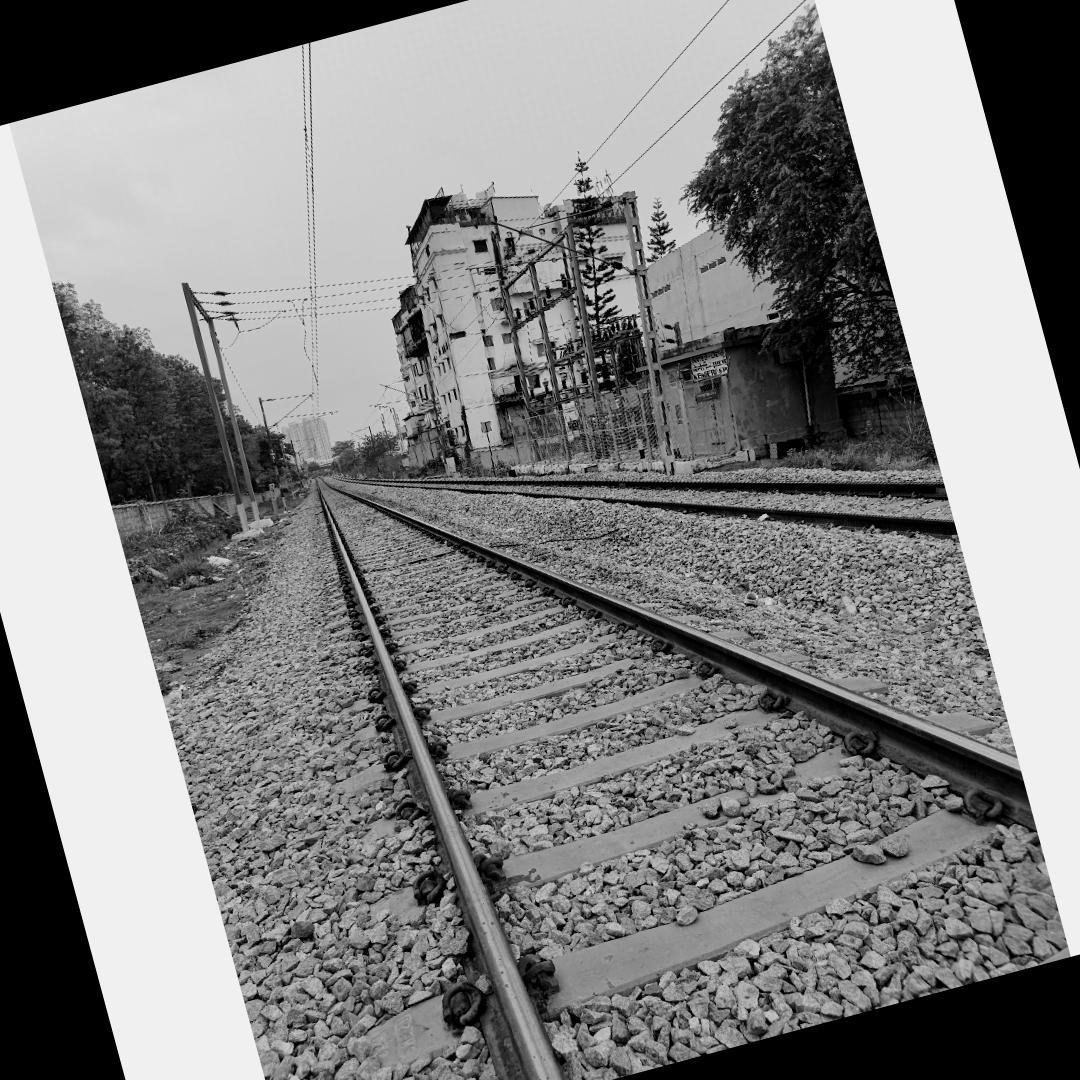track: (309, 476, 1071, 1080)
